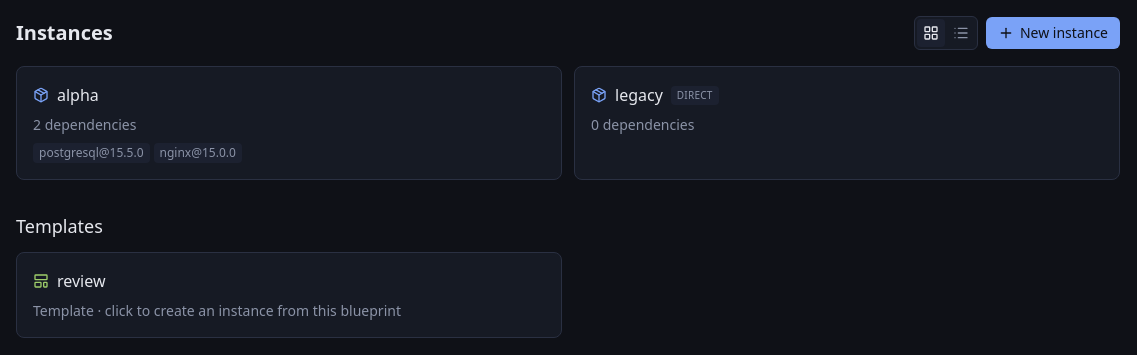
Test: Dashboard › switches between grid and list views and remembers the choice
The image size is (1137, 355).
Expected: the text "alpha" is shown, [57,83,99,107]
Expected: the text "postgresql@15.5.0" is shown, [33,143,150,163]
Click the button named "List view" at (961, 33), box [947,19,975,47]
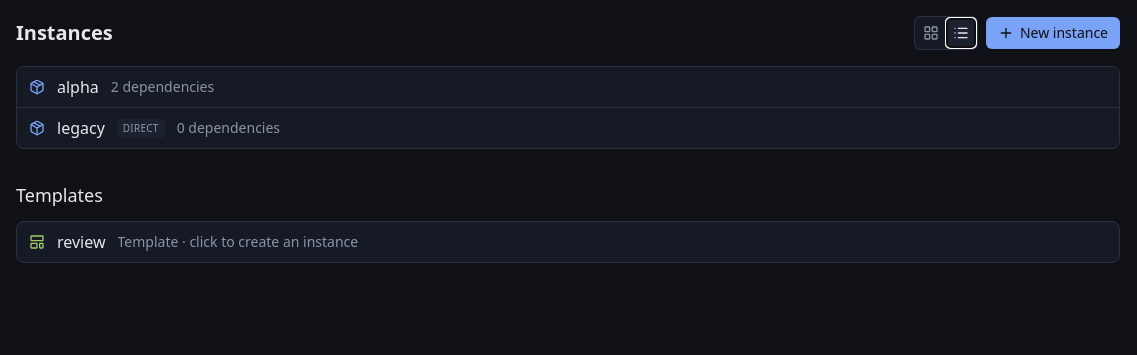
Expected: the text "alpha" is shown, [57,75,99,99]
Result: the link "postgresql@15.5.0" is gone
